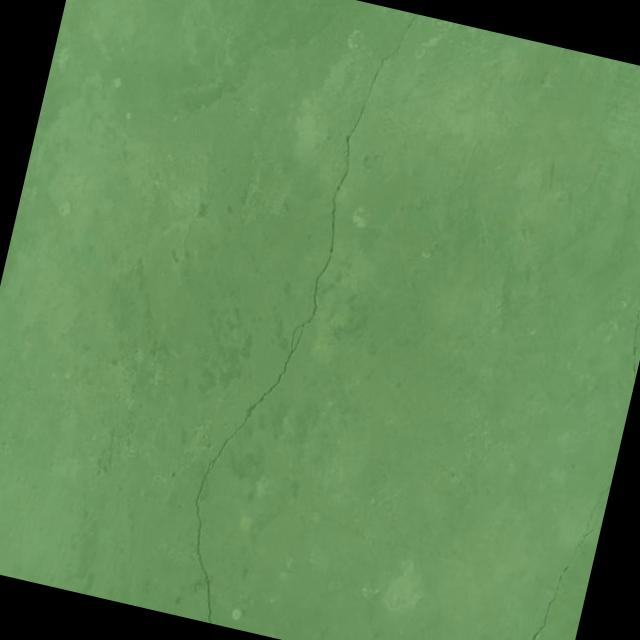crack: (169, 0, 419, 638), (497, 472, 609, 640), (622, 291, 640, 377)
